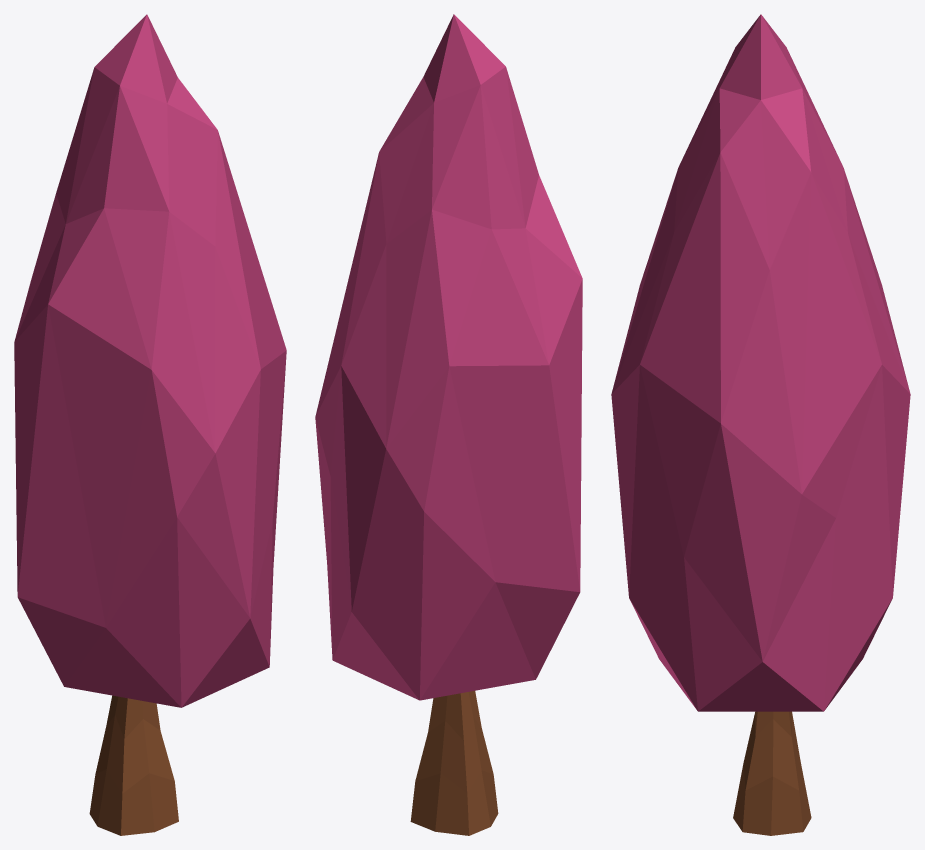
The model's file is Tree_46_Pink.fbx.
The picture shows the model from 3 angles, left to right: view 1: azimuth 30°, elevation 25°; view 2: azimuth 150°, elevation 25°; view 3: azimuth 270°, elevation 25°; orthographic projection.
Parts seen in each view (by area): view 1: Tree_46_Pink_Part_1, Tree_46_Pink_Part_2; view 2: Tree_46_Pink_Part_1, Tree_46_Pink_Part_2; view 3: Tree_46_Pink_Part_1, Tree_46_Pink_Part_2.
Boxes of the visible parts, box(x1,y1,x2,y2) form: Tree_46_Pink_Part_1: box(14, 14, 286, 707); Tree_46_Pink_Part_2: box(89, 695, 178, 835); Tree_46_Pink_Part_1: box(315, 14, 582, 700); Tree_46_Pink_Part_2: box(410, 690, 498, 835); Tree_46_Pink_Part_1: box(611, 14, 910, 711); Tree_46_Pink_Part_2: box(733, 711, 811, 835).
Size of the model in its own units: 265 by 797 by 268.
